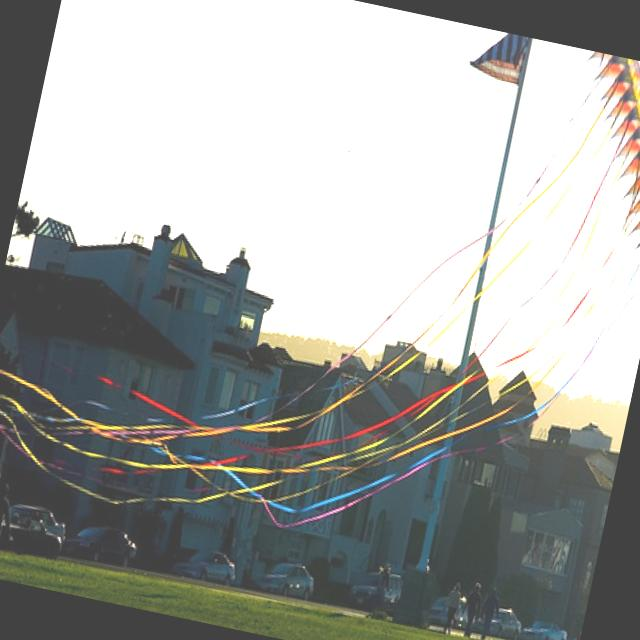Vehicle: (0, 499, 69, 562), (59, 522, 138, 571), (171, 542, 239, 586), (347, 566, 405, 616), (262, 555, 316, 598), (425, 590, 472, 636), (488, 605, 524, 640), (518, 616, 569, 640)
